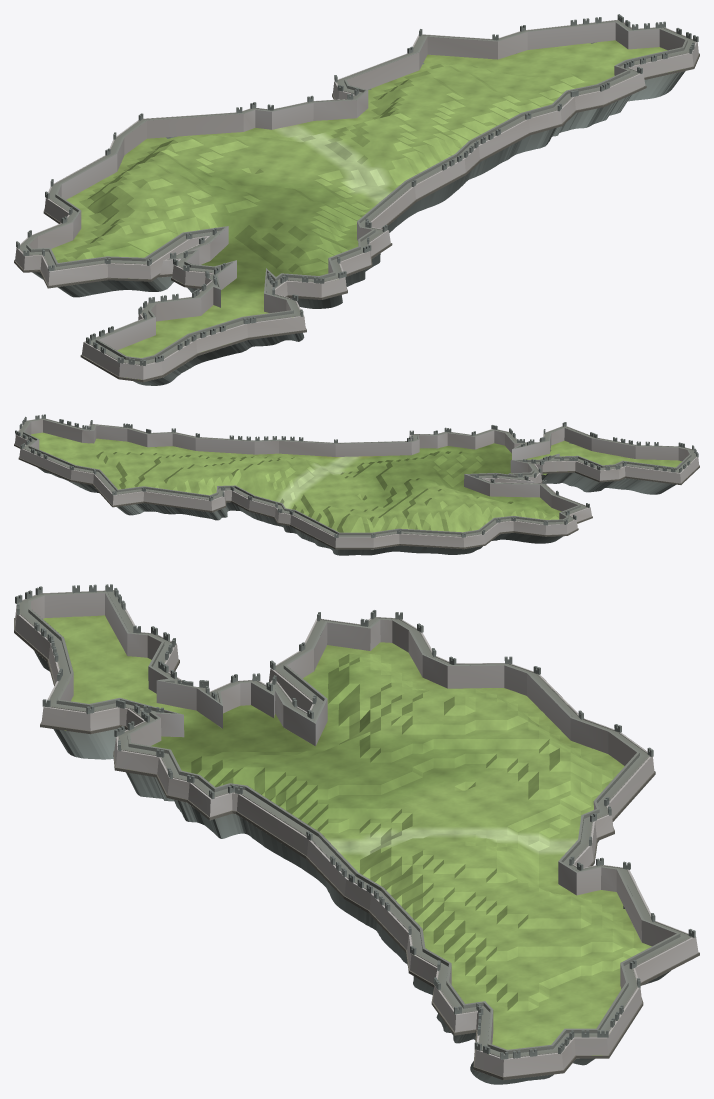
The picture shows the model from 3 angles, top to bottom: view 1: azimuth 30°, elevation 25°; view 2: azimuth 150°, elevation 25°; view 3: azimuth 270°, elevation 25°; orthographic projection. The views are drawn at different scales.
Visible parts, largest first — view 1: ground_b847bee1; view 2: ground_b847bee1; view 3: ground_b847bee1.
Part boxes in pixels (<box>): ground_b847bee1: <box>14,14,699,385</box>; ground_b847bee1: <box>14,414,699,555</box>; ground_b847bee1: <box>14,584,699,1084</box>.
Bounding box in the file's own units: 159 × 9.01 × 97.65.
3 materials, 1 textured.
